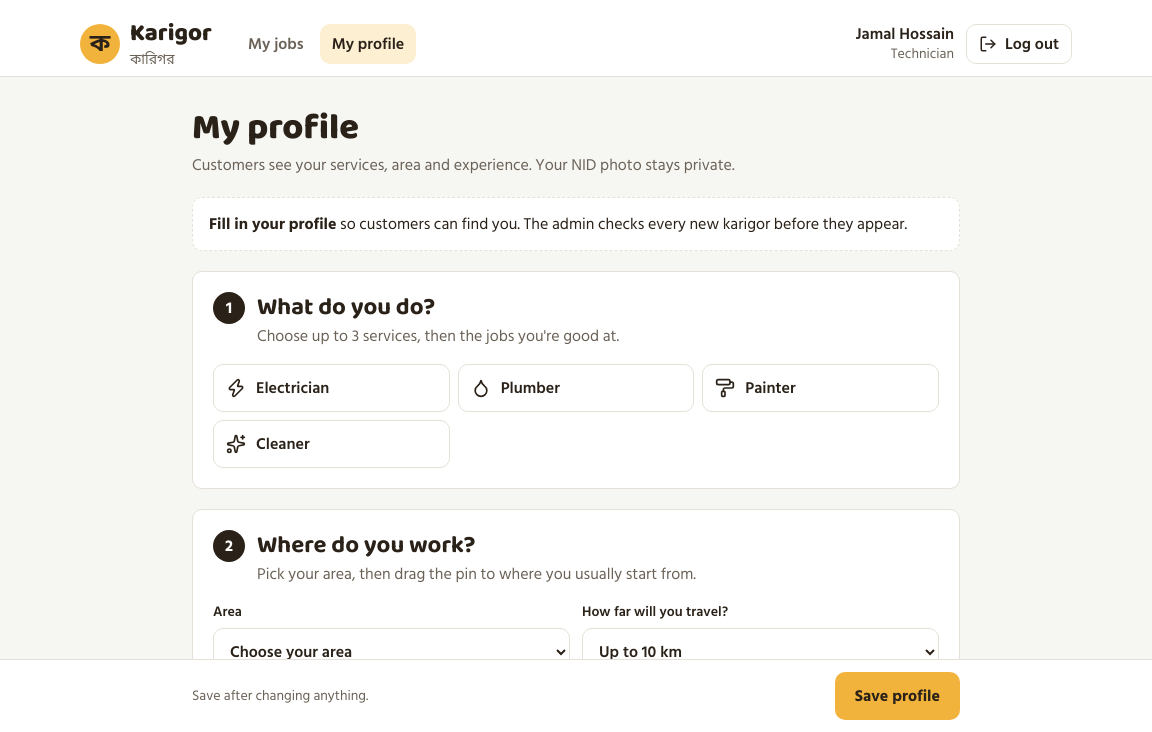
new technician › shows server errors in the right section
The image size is (1152, 732).
expect the heading "What do you do?" is shown: met, box [257,288,435,328]
Click the button "Save profile" at [897, 696], box [835,672,960,720]
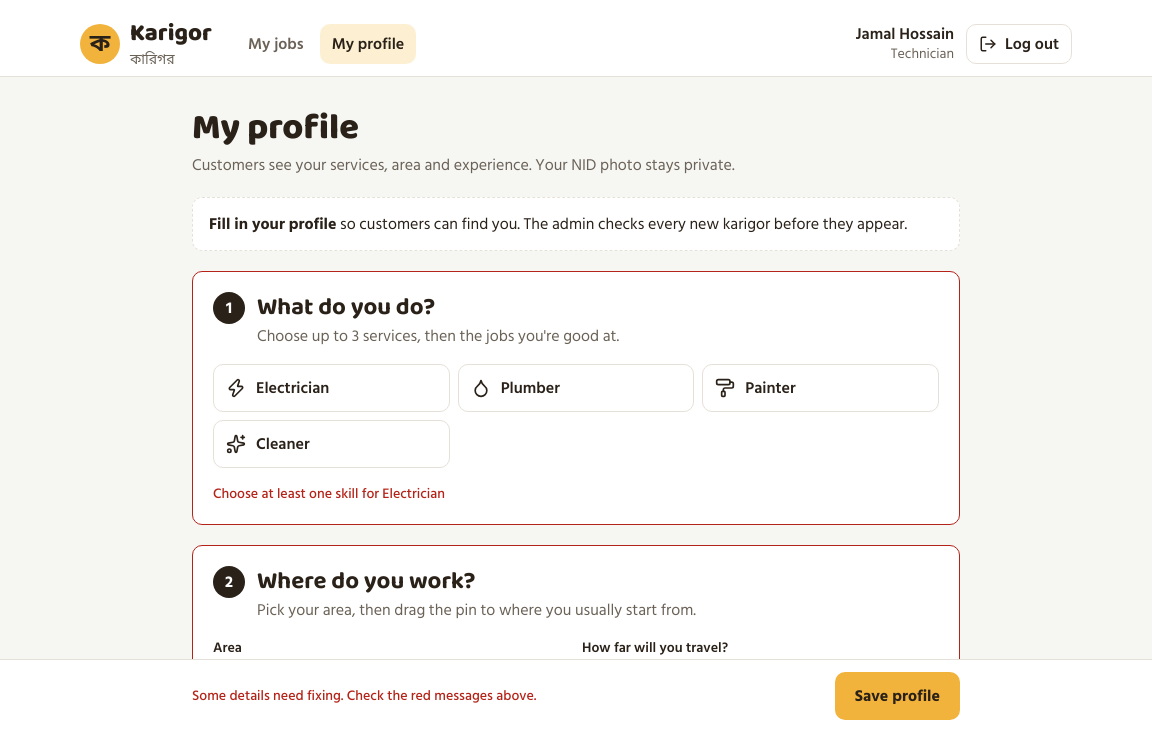
expect the text "Choose at least one skill for Electrician" is shown: met, box [213,482,445,505]
expect the text "Some details need fixing. Check the red messages above." is shown: met, box [192,684,536,707]
